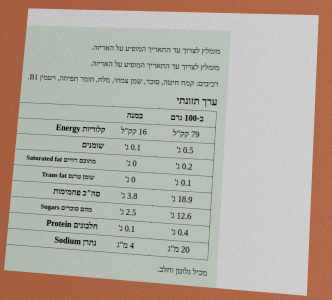carbs: (170, 193, 194, 206)
energy: (171, 128, 201, 140)
fat: (175, 144, 195, 156)
protein: (170, 226, 190, 239)
